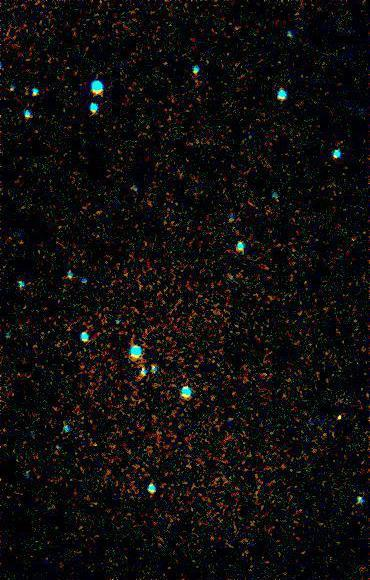star: (325, 401, 355, 431)
